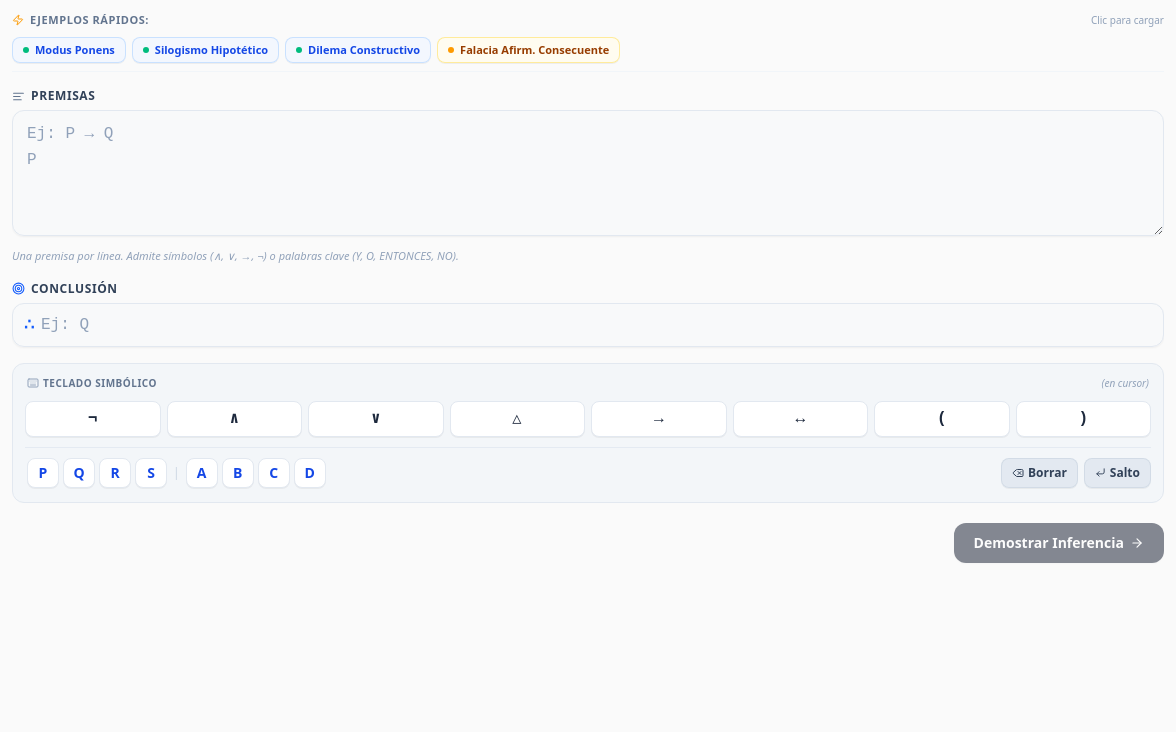
Scenario: FormularioInferencia › borra el último carácter al pulsar el botón de borrar
Type "P ∧ Q" into the text box labelled "Premisas".
click(588, 173); type("P ∧ Q")  # box [12,110,1164,236]
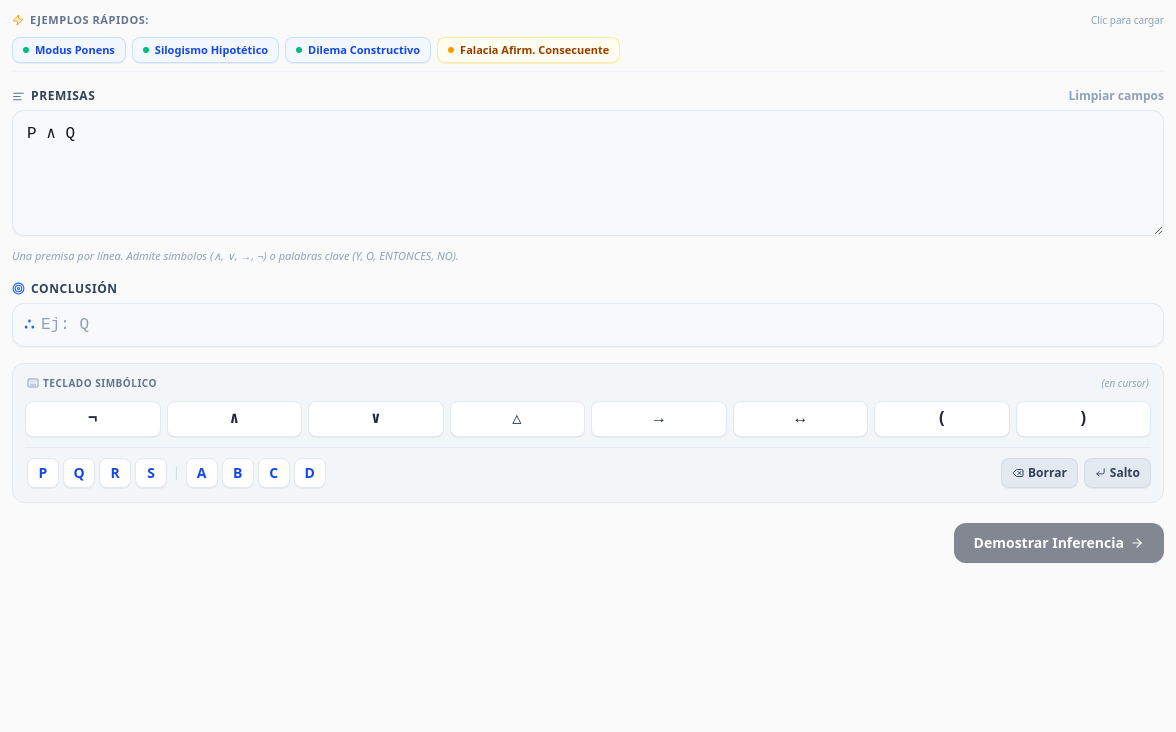
Click the button "Borrar".
click(1039, 472)  # box [1001,458,1078,488]
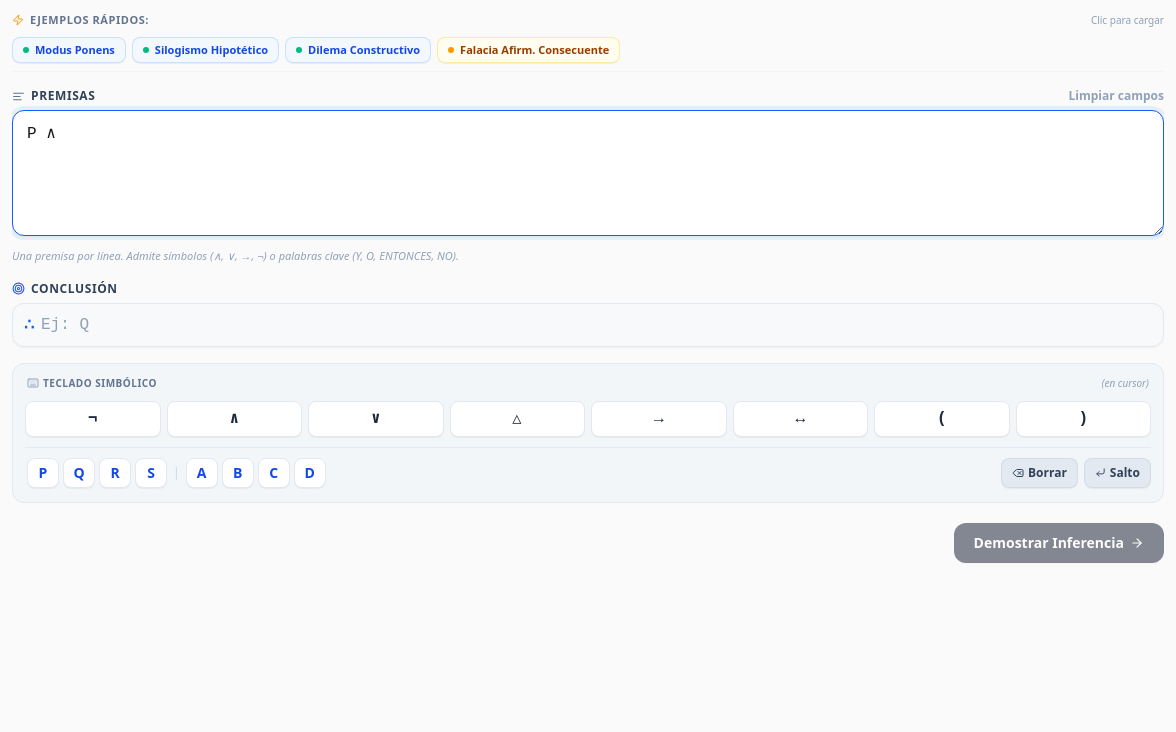
Expected: the text box labelled "Premisas" holds "P ∧ ", [12,110,1164,236]
